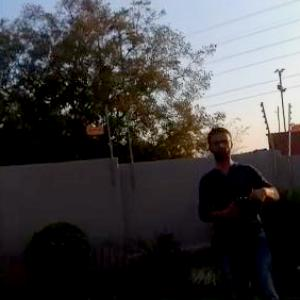follow: (194, 119, 289, 299)
